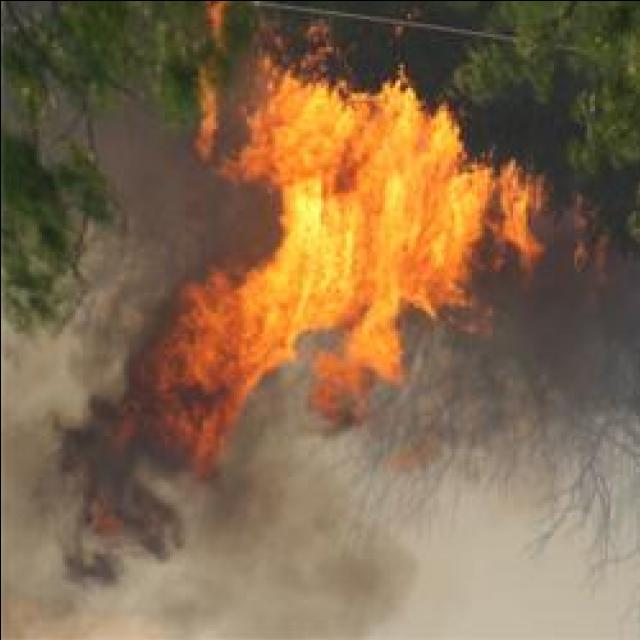fire: (262, 222, 362, 332), (355, 188, 460, 292), (280, 104, 385, 208), (210, 284, 280, 370), (381, 118, 444, 200), (342, 282, 398, 362)
smoke: (164, 510, 418, 640), (0, 487, 187, 640), (7, 388, 129, 528), (536, 259, 638, 382), (508, 312, 608, 430), (113, 404, 181, 506), (70, 294, 138, 390), (306, 371, 390, 445), (137, 149, 205, 224)
